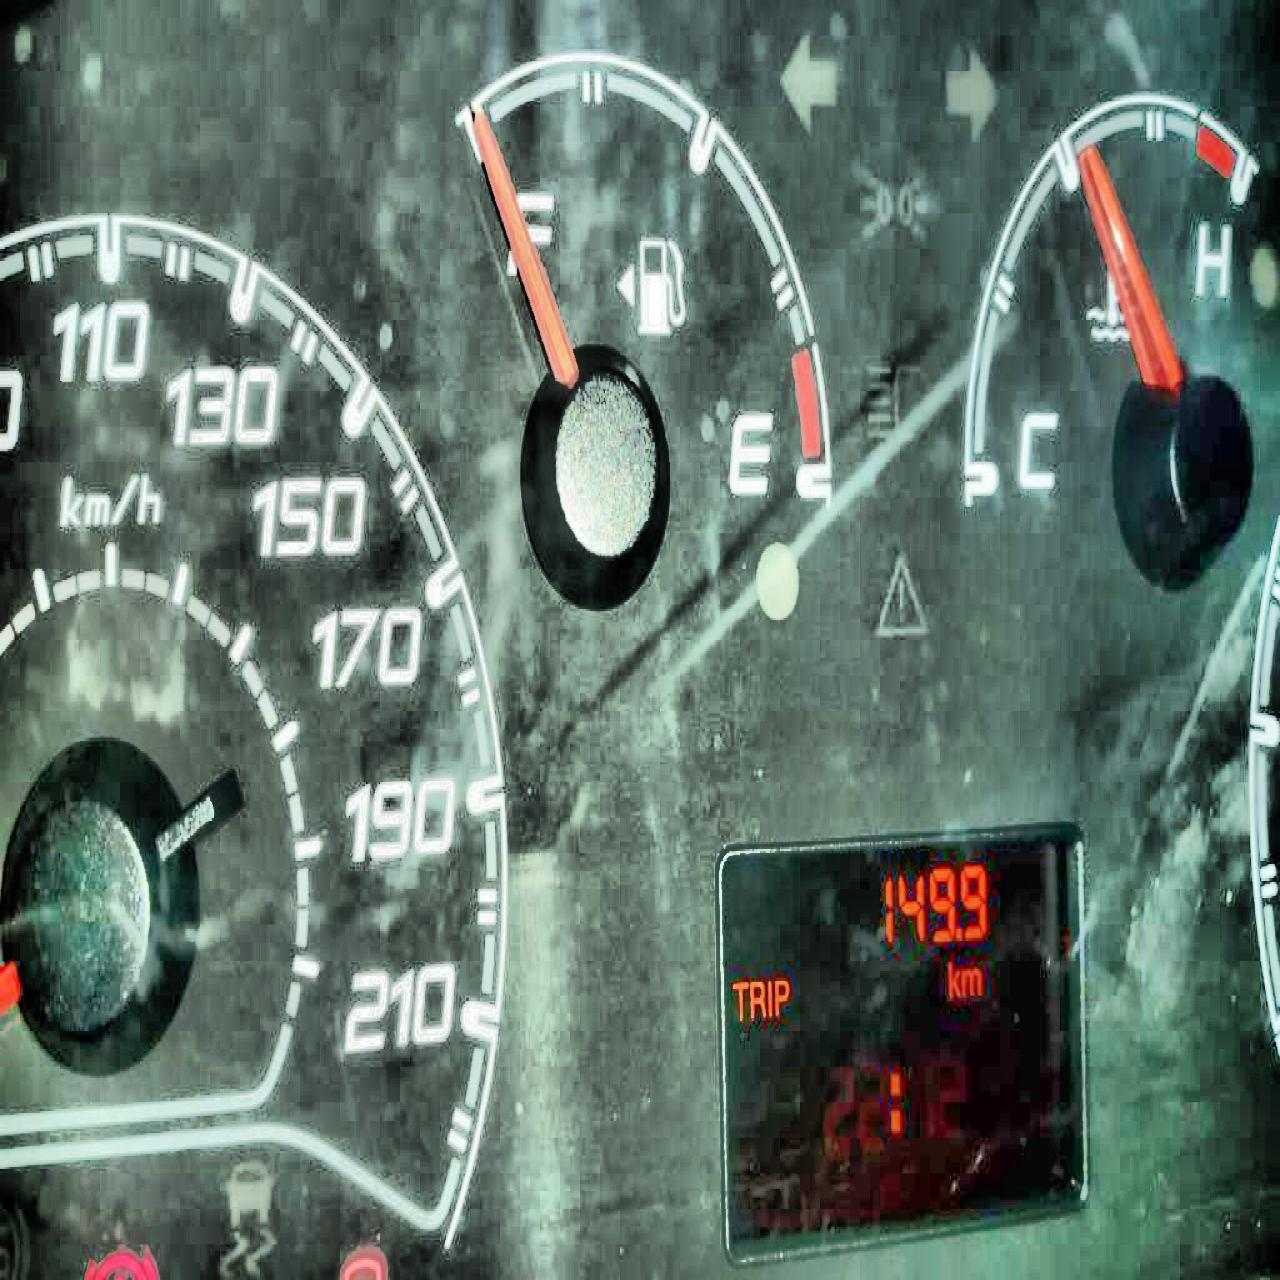-: (953, 922, 962, 945)
1: (880, 865, 894, 953)
4: (896, 863, 925, 948)
9: (959, 860, 993, 940), (927, 860, 955, 940)
X: (884, 1057, 903, 1144), (730, 969, 749, 1029), (774, 969, 792, 1020), (749, 975, 765, 1024), (960, 965, 981, 1000), (946, 955, 960, 1000), (767, 971, 772, 1020)
odometer: (709, 811, 1102, 1255)
